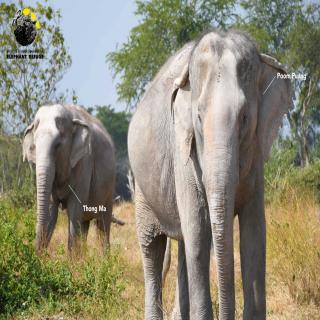Elephant: (125, 25, 297, 320)
